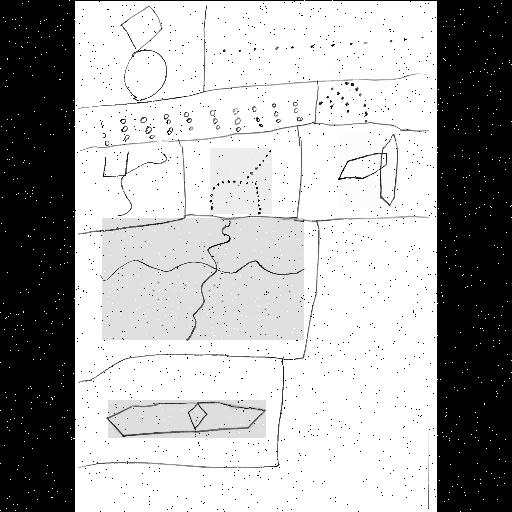shape-1: (120, 5, 168, 99)
shape-2: (224, 34, 422, 54)
shape-3: (101, 96, 303, 146)
shape-4: (318, 80, 368, 124)
shape-5: (104, 150, 168, 216)
shape-6: (210, 148, 272, 214)
shape-7: (102, 218, 304, 340)
shape-8: (338, 132, 400, 208)
shape-9: (108, 400, 266, 438)
